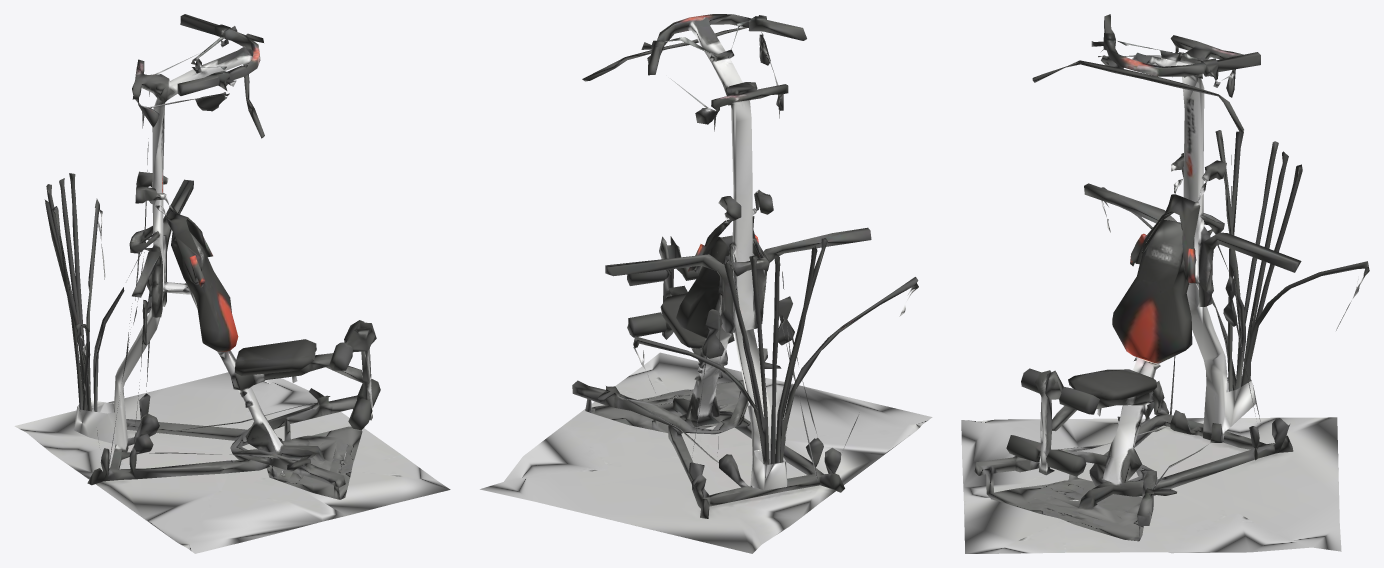
File: k1-bowflex-xtreme-2se-phone.glb
3 renders of one model, left to right at view 1: azimuth 30°, elevation 25°; view 2: azimuth 150°, elevation 25°; view 3: azimuth 270°, elevation 25°, orthographic. The views are drawn at different scales.
Parts seen in each view (by area): view 1: tripo_node_20d98ed1-bfe5-4ed4-ba9d-db748f44e55f; view 2: tripo_node_20d98ed1-bfe5-4ed4-ba9d-db748f44e55f; view 3: tripo_node_20d98ed1-bfe5-4ed4-ba9d-db748f44e55f.
Part boxes in pixels (bbox=[...]): tripo_node_20d98ed1-bfe5-4ed4-ba9d-db748f44e55f: bbox=[14, 14, 450, 553]; tripo_node_20d98ed1-bfe5-4ed4-ba9d-db748f44e55f: bbox=[480, 14, 932, 553]; tripo_node_20d98ed1-bfe5-4ed4-ba9d-db748f44e55f: bbox=[961, 14, 1369, 553].
Size of the model in its own units: 0.7952 by 0.9999 by 0.8484.
1 material, 1 textured.
